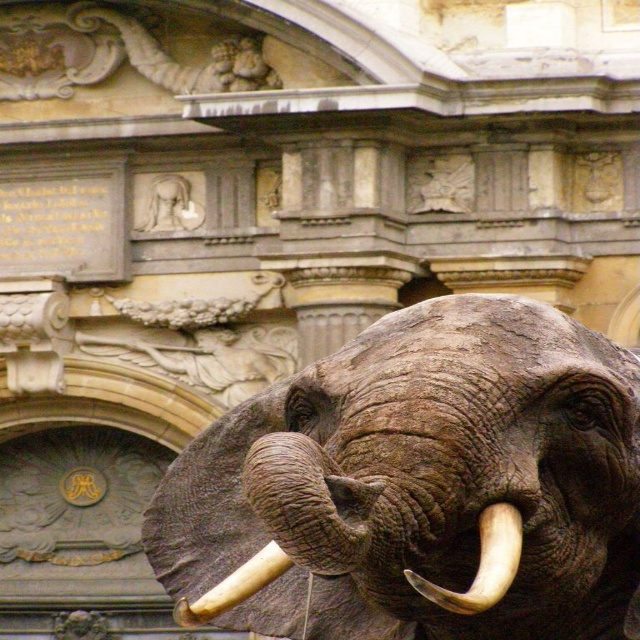Elephant: (131, 297, 638, 639)
